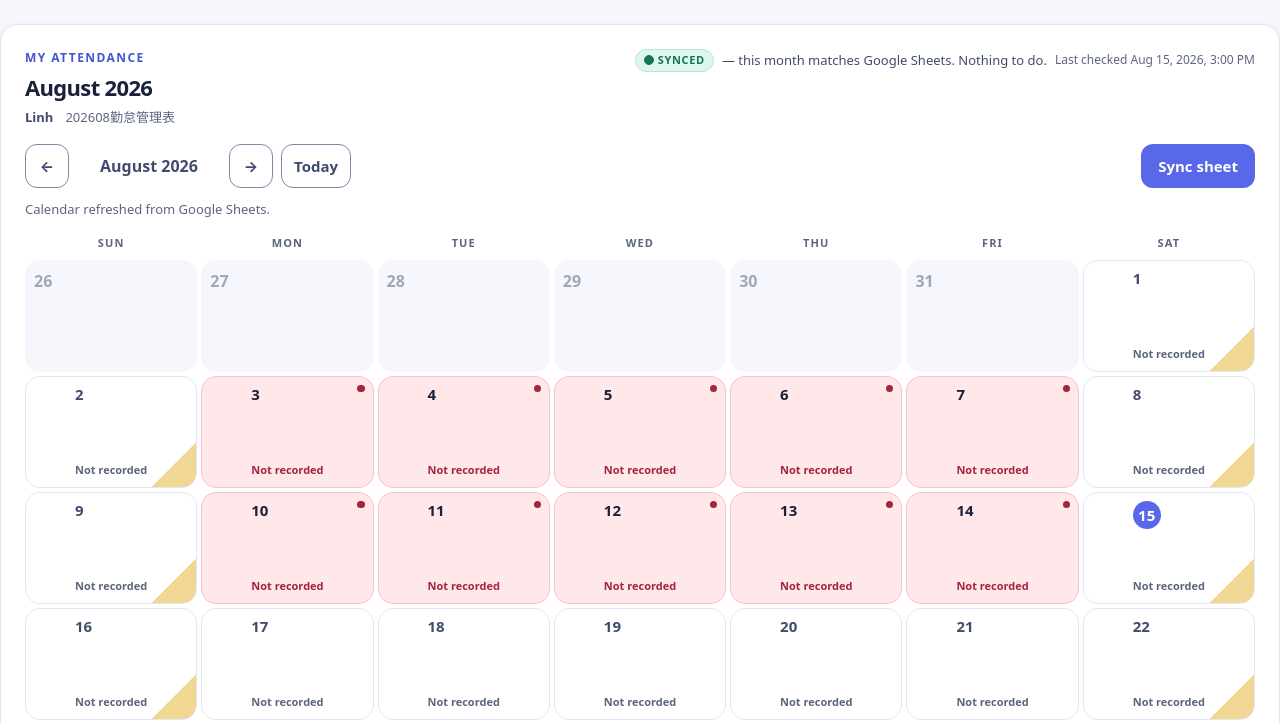
Test: DashboardClient calendar workspace › opens a read-only day preview and links to full detail
Click the cell "3 Not recorded". click: (287, 432)
box: x1=201 y1=376 x2=374 y2=488
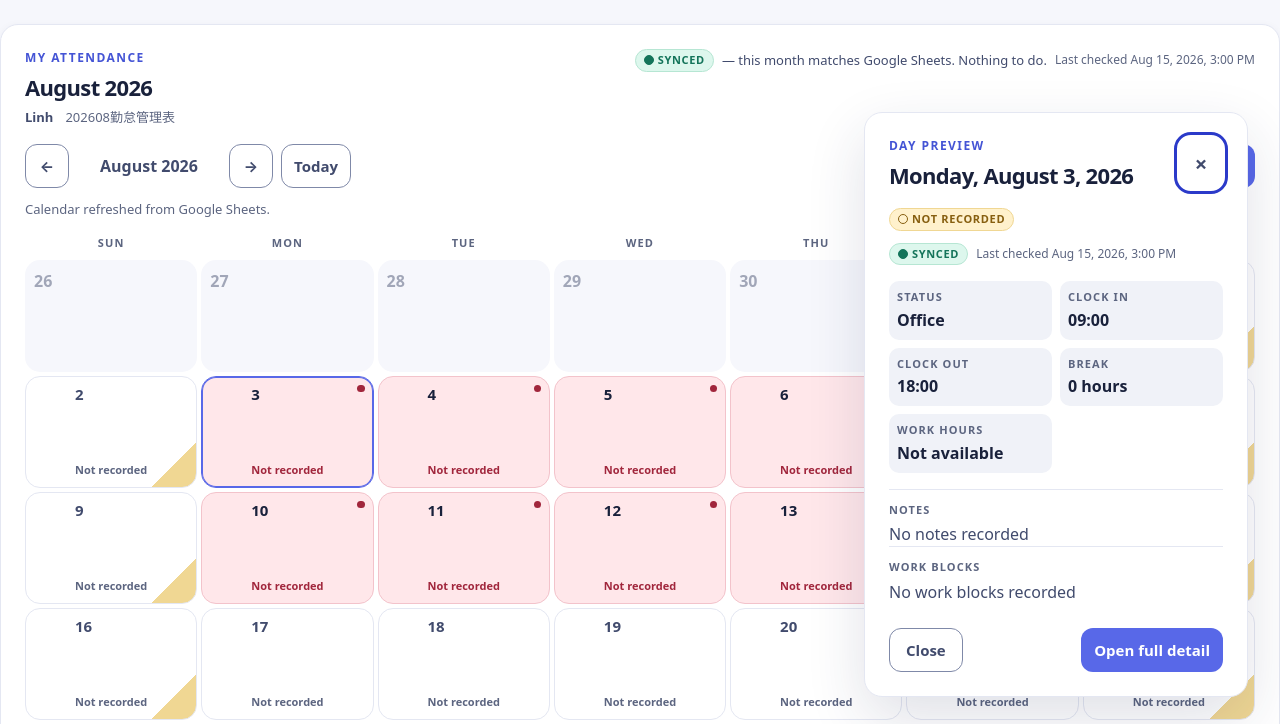
Now the dialog "Monday, August 3, 2026" is shown, box x1=864 y1=112 x2=1248 y2=696
